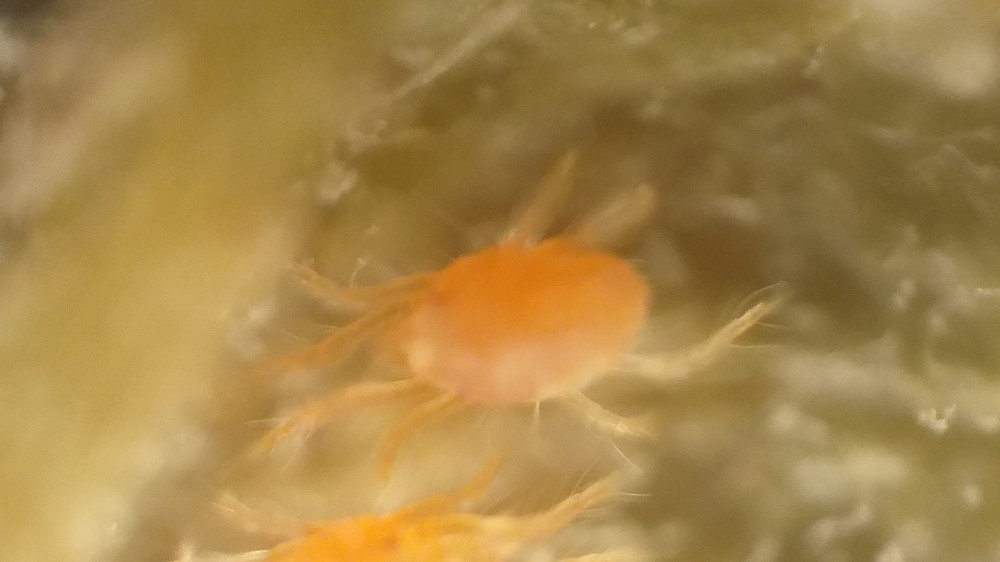Aracnido Rojo: (244, 160, 801, 497)
